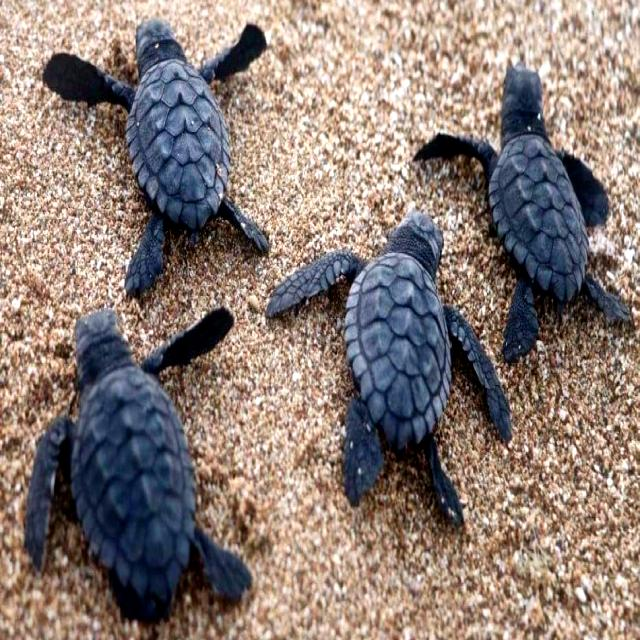Sea turtle: (4, 282, 258, 633), (265, 189, 499, 543), (410, 25, 640, 366), (42, 24, 286, 279)
